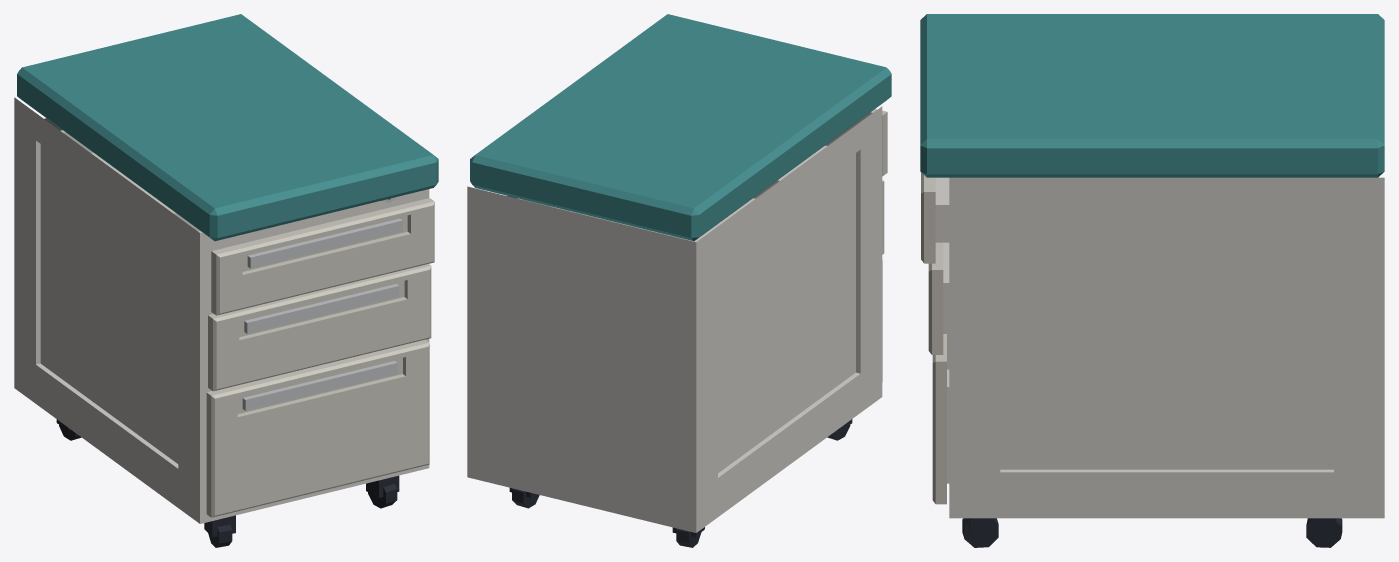
The model's file is pedestal-drawer-unit-cbeab3.glb.
3 views of the same model, side by side, from view 1: azimuth 30°, elevation 25°; view 2: azimuth 150°, elevation 25°; view 3: azimuth 270°, elevation 25° (orthographic). The views are drawn at different scales.
Parts seen in each view (by area): view 1: carcass, drawer-1, drawer-2, drawer-3; view 2: carcass, drawer-3; view 3: carcass, drawer-1, drawer-3, drawer-2.
Boxes of the visible parts, x1=… form: carcass: x1=14, y1=14, x2=438, y2=547; drawer-1: x1=206, y1=339, x2=429, y2=517; drawer-2: x1=208, y1=264, x2=431, y2=391; drawer-3: x1=60, y1=130, x2=434, y2=315; carcass: x1=467, y1=14, x2=891, y2=547; drawer-3: x1=517, y1=109, x2=887, y2=241; carcass: x1=920, y1=14, x2=1384, y2=547; drawer-1: x1=932, y1=334, x2=949, y2=504; drawer-3: x1=921, y1=172, x2=949, y2=263; drawer-2: x1=928, y1=242, x2=949, y2=354.
Size of the model in its own units: 0.4 by 0.6 by 0.6.
